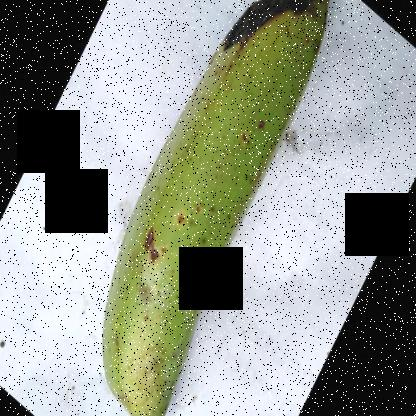rotten: (219, 1, 341, 76)
unripe: (89, 13, 358, 415)
